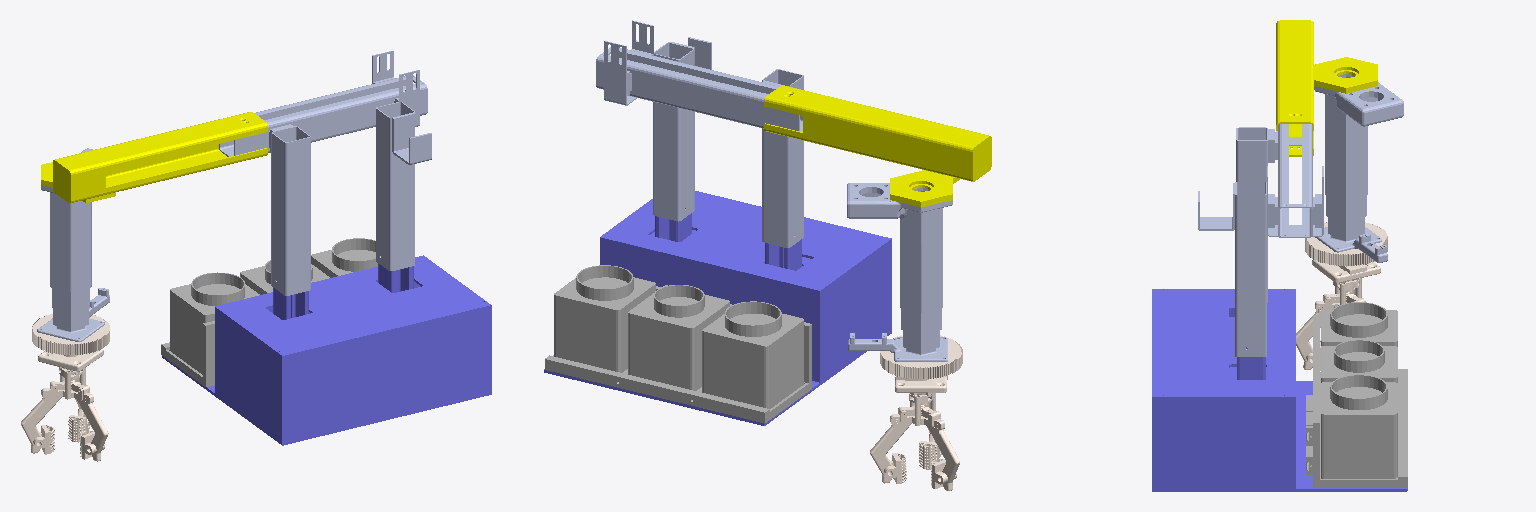
The robot description file, URDF, robot "URDF_v6.SLDASM":
<?xml version="1.0" encoding="utf-8"?>
<!-- This URDF was automatically created by SolidWorks to URDF Exporter! Originally created by [author] ([email redacted]) 
     Commit Version: 1.6.0-4-g7f85cfe  Build Version: 1.6.7995.38578
     For more information, please see http://wiki.ros.org/sw_urdf_exporter -->
<robot
  name="URDF_v6.SLDASM">
  <link
    name="base">
    <inertial>
      <origin
        xyz="0.0944893864769673 -0.0347411727043226 -0.101278892046256"
        rpy="0 0 0" />
      <mass
        value="6.12695332790383" />
      <inertia
        ixx="0.0526628123209649"
        ixy="3.72389539763586E-05"
        ixz="9.46408382527756E-12"
        iyy="0.110440494279973"
        iyz="1.05397026658463E-11"
        izz="0.143434836820738" />
    </inertial>
    <visual>
      <origin
        xyz="0 0 0"
        rpy="0 0 0" />
      <geometry>
        <mesh
          filename="package://sysmap_package/meshes/base.STL" />
      </geometry>
      <material
        name="">
        <color
          rgba="0.501960784313725 0.501960784313725 1 1" />
      </material>
    </visual>
    <collision>
      <origin
        xyz="0 0 0"
        rpy="0 0 0" />
      <geometry>
        <mesh
          filename="package://sysmap_package/meshes/base.STL" />
      </geometry>
    </collision>
  </link>
  <link
    name="gliss_poteaux">
    <inertial>
      <origin
        xyz="0.118562971291442 0.0313919342087894 0.245093450706981"
        rpy="0 0 0" />
      <mass
        value="0.500902523414264" />
      <inertia
        ixx="0.00170021211145716"
        ixy="-1.77819170774254E-08"
        ixz="-2.61443758242469E-19"
        iyy="0.0036787944050683"
        iyz="-2.32246937822599E-06"
        izz="0.00242730566117116" />
    </inertial>
    <visual>
      <origin
        xyz="0 0 0"
        rpy="0 0 0" />
      <geometry>
        <mesh
          filename="package://sysmap_package/meshes/gliss_poteaux.STL" />
      </geometry>
      <material
        name="">
        <color
          rgba="0.792156862745098 0.819607843137255 0.933333333333333 1" />
      </material>
    </visual>
    <collision>
      <origin
        xyz="0 0 0"
        rpy="0 0 0" />
      <geometry>
        <mesh
          filename="package://sysmap_package/meshes/gliss_poteaux.STL" />
      </geometry>
    </collision>
  </link>
  <joint
    name="gliss_poteaux"
    type="prismatic">
    <origin
      xyz="0 0 0"
      rpy="0 0 0" />
    <parent
      link="base" />
    <child
      link="gliss_poteaux" />
    <axis
      xyz="0 0 -1" />
    <limit
      lower="0"
      upper="0"
      effort="0"
      velocity="0" />
  </joint>
  <link
    name="gliss_bras">
    <inertial>
      <origin
        xyz="0.557428474782956 -0.0205798453700184 -0.011047194653353"
        rpy="0 0 0" />
      <mass
        value="0.335167922240104" />
      <inertia
        ixx="0.000424219378364812"
        ixy="-5.1328730304103E-06"
        ixz="-1.9398128324772E-18"
        iyy="0.00273500591443091"
        iyz="-1.44140732216592E-07"
        izz="0.00289086824854067" />
    </inertial>
    <visual>
      <origin
        xyz="0 0 0"
        rpy="0 0 0" />
      <geometry>
        <mesh
          filename="package://sysmap_package/meshes/gliss_bras.STL" />
      </geometry>
      <material
        name="">
        <color
          rgba="1 1 0 1" />
      </material>
    </visual>
    <collision>
      <origin
        xyz="0 0 0"
        rpy="0 0 0" />
      <geometry>
        <mesh
          filename="package://sysmap_package/meshes/gliss_bras.STL" />
      </geometry>
    </collision>
  </link>
  <joint
    name="gliss_bras"
    type="prismatic">
    <origin
      xyz="0.29342493954964 0.0679999999953615 0.296721660586204"
      rpy="0 0 -3.14159265358979" />
    <parent
      link="gliss_poteaux" />
    <child
      link="gliss_bras" />
    <axis
      xyz="-1 0 0" />
    <limit
      lower="0"
      upper="0"
      effort="0"
      velocity="0" />
  </joint>
  <link
    name="verrin">
    <inertial>
      <origin
        xyz="-0.0125569937147453 0.00726734801902937 0.137936258865581"
        rpy="0 0 0" />
      <mass
        value="0.661789633465566" />
      <inertia
        ixx="0.00196990890859597"
        ixy="0.000207478841159757"
        ixz="-0.000153728211501711"
        iyy="0.00221074452321751"
        iyz="8.87559948806474E-05"
        izz="0.00114488105658826" />
    </inertial>
    <visual>
      <origin
        xyz="0 0 0"
        rpy="0 0 0" />
      <geometry>
        <mesh
          filename="package://sysmap_package/meshes/verrin.STL" />
      </geometry>
      <material
        name="">
        <color
          rgba="0.792156862745098 0.819607843137255 0.933333333333333 1" />
      </material>
    </visual>
    <collision>
      <origin
        xyz="0 0 0"
        rpy="0 0 0" />
      <geometry>
        <mesh
          filename="package://sysmap_package/meshes/verrin.STL" />
      </geometry>
    </collision>
  </link>
  <joint
    name="verrin"
    type="prismatic">
    <origin
      xyz="0.62905742609016 -0.0800000014712998 -0.029999999991313"
      rpy="3.14159265358979 0 0" />
    <parent
      link="gliss_bras" />
    <child
      link="verrin" />
    <axis
      xyz="0 0 1" />
    <limit
      lower="0"
      upper="0"
      effort="0"
      velocity="0" />
  </joint>
  <link
    name="rot_pince">
    <inertial>
      <origin
        xyz="0.000294022871902055 4.34457177786451E-05 0.0693101548820414"
        rpy="0 0 0" />
      <mass
        value="0.544998572652357" />
      <inertia
        ixx="0.000396325660254941"
        ixy="5.31600984171309E-07"
        ixz="2.45728709130073E-07"
        iyy="0.000397311801808361"
        iyz="-4.17603942090456E-07"
        izz="0.000638370220485151" />
    </inertial>
    <visual>
      <origin
        xyz="0 0 0"
        rpy="0 0 0" />
      <geometry>
        <mesh
          filename="package://sysmap_package/meshes/rot_pince.STL" />
      </geometry>
      <material
        name="">
        <color
          rgba="1 0.949019607843137 0.909803921568627 1" />
      </material>
    </visual>
    <collision>
      <origin
        xyz="0 0 0"
        rpy="0 0 0" />
      <geometry>
        <mesh
          filename="package://sysmap_package/meshes/rot_pince.STL" />
      </geometry>
    </collision>
  </link>
  <joint
    name="rot_pince"
    type="revolute">
    <origin
      xyz="-2.88675134771377E-05 4.99999999629686E-05 0.280984024501209"
      rpy="0 0 3.14159265358979" />
    <parent
      link="verrin" />
    <child
      link="rot_pince" />
    <axis
      xyz="0 0 1" />
    <limit
      lower="0"
      upper="0"
      effort="0"
      velocity="0" />
  </joint>
  <link
    name="gliss_boites">
    <inertial>
      <origin
        xyz="0 0 0"
        rpy="0 0 0" />
      <mass
        value="2.80592305978432" />
      <inertia
        ixx="0.00678202290107791"
        ixy="2.74320546351397E-18"
        ixz="-4.47642388658076E-18"
        iyy="0.0162652797341694"
        iyz="-0.000751021025269051"
        izz="0.0179647616711809" />
    </inertial>
    <visual>
      <origin
        xyz="0 0 0"
        rpy="0 0 0" />
      <geometry>
        <mesh
          filename="package://sysmap_package/meshes/gliss_boites.STL" />
      </geometry>
      <material
        name="">
        <color
          rgba="0.752941176470588 0.752941176470588 0.752941176470588 1" />
      </material>
    </visual>
    <collision>
      <origin
        xyz="0 0 0"
        rpy="0 0 0" />
      <geometry>
        <mesh
          filename="package://sysmap_package/meshes/gliss_boites.STL" />
      </geometry>
    </collision>
  </link>
  <joint
    name="gliss_boites"
    type="prismatic">
    <origin
      xyz="0.29242 0.244 -0.15901"
      rpy="0 0 -3.1416" />
    <parent
      link="base" />
    <child
      link="gliss_boites" />
    <axis
      xyz="-1 0 0" />
    <limit
      lower="0"
      upper="0.26"
      effort="0"
      velocity="0" />
  </joint>
</robot>

--- What the picture shows (computed from the rendered views, not written in the file) ---
The picture shows the robot from 3 angles, left to right: view 1: azimuth 30°, elevation 25°; view 2: azimuth 150°, elevation 25°; view 3: azimuth 270°, elevation 25°; orthographic projection.
Model URDF_v6.SLDASM with 6 links and 5 joints (1 revolute, 4 prismatic), rooted at base, posed every joint at zero.
Visible links, largest first — view 1: base, gliss_poteaux, gliss_bras, gliss_boites, verrin, rot_pince; view 2: gliss_boites, base, gliss_poteaux, gliss_bras, verrin, rot_pince; view 3: base, gliss_boites, gliss_poteaux, verrin, gliss_bras, rot_pince.
Link boxes in pixels (x1,y1,x2,y2): base: (162,255,491,445); gliss_poteaux: (219,51,431,295); gliss_bras: (41,112,267,202); gliss_boites: (161,238,377,386); verrin: (37,148,109,341); rot_pince: (21,314,109,461); gliss_boites: (545,265,811,422); base: (544,191,891,425); gliss_poteaux: (596,20,803,247); gliss_bras: (764,85,991,207); verrin: (847,183,952,361); rot_pince: (870,335,962,490); base: (1152,289,1407,491); gliss_boites: (1306,302,1407,487); gliss_poteaux: (1198,124,1323,356); verrin: (1314,74,1403,262); gliss_bras: (1276,20,1377,156); rot_pince: (1296,222,1387,370).
Size in the robot's own frame: 0.7118 by 0.4 by 0.6058 metres.
Meshes: 6 distinct files referenced, 6 mesh visuals loaded (6 binary STL).